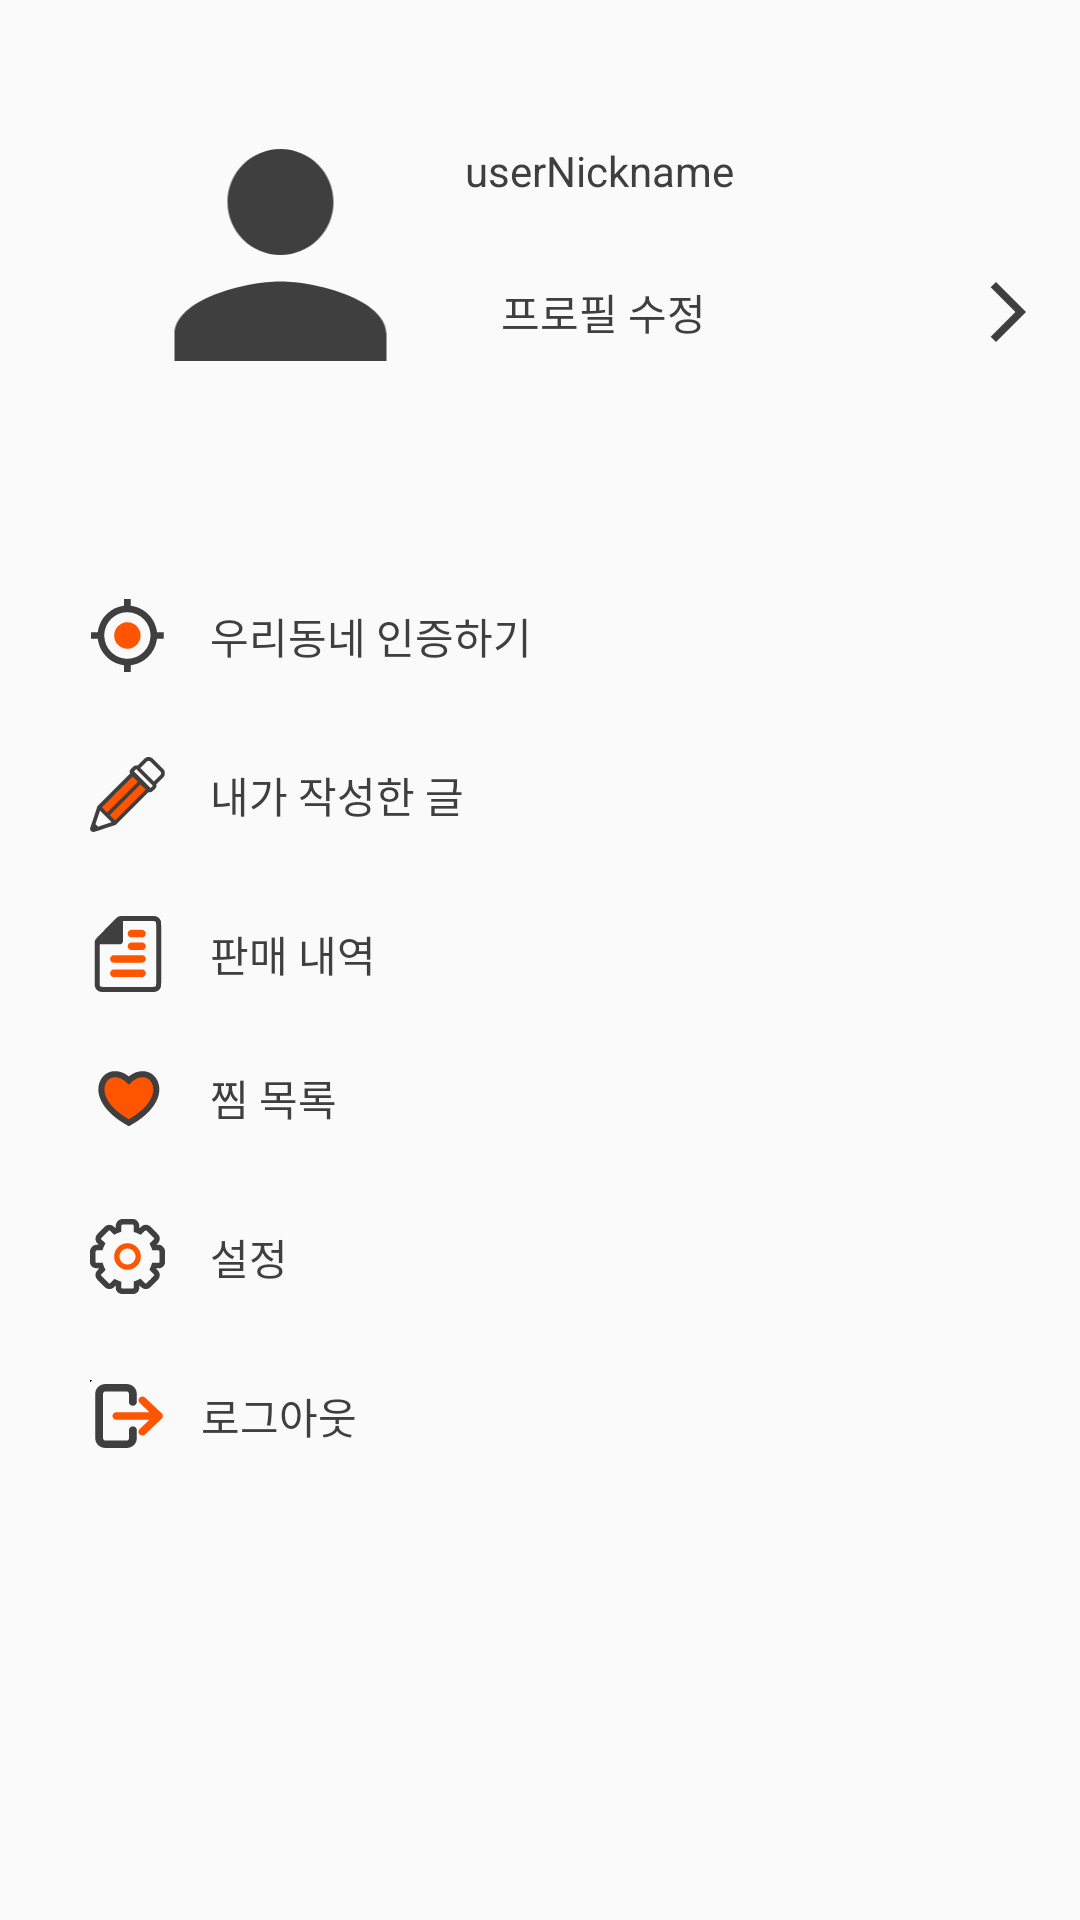

Named icons in this screenshot (1080 x 1920) and their bounding boxes, bbox(x1, y1, x2, y2):
person: bbox(174, 149, 387, 361)
